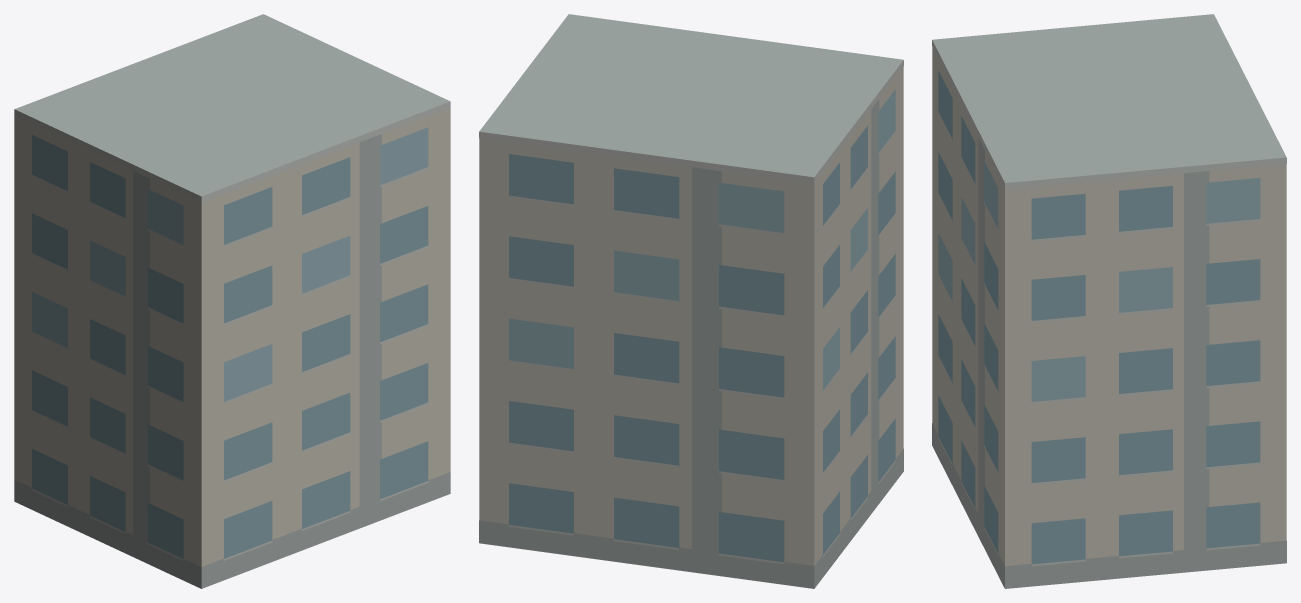
File: residential-5b49473b-d8c0-490d-b841-09808dff2adc.glb
3 renders of one model, left to right at view 1: azimuth 30°, elevation 25°; view 2: azimuth 150°, elevation 25°; view 3: azimuth 270°, elevation 25°, orthographic. The views are drawn at different scales.
Parts seen in each view (by area): view 1: residential-5b49473b-d8c0-490d-b841-09808dff2adc.tmp; view 2: residential-5b49473b-d8c0-490d-b841-09808dff2adc.tmp; view 3: residential-5b49473b-d8c0-490d-b841-09808dff2adc.tmp.
Boxes of the visible parts, x1=… form: residential-5b49473b-d8c0-490d-b841-09808dff2adc.tmp: x1=14, y1=14, x2=450, y2=588; residential-5b49473b-d8c0-490d-b841-09808dff2adc.tmp: x1=479, y1=14, x2=903, y2=588; residential-5b49473b-d8c0-490d-b841-09808dff2adc.tmp: x1=932, y1=14, x2=1286, y2=588.
Bounding box in the file's own units: 13.64 × 15.25 × 12.09.
